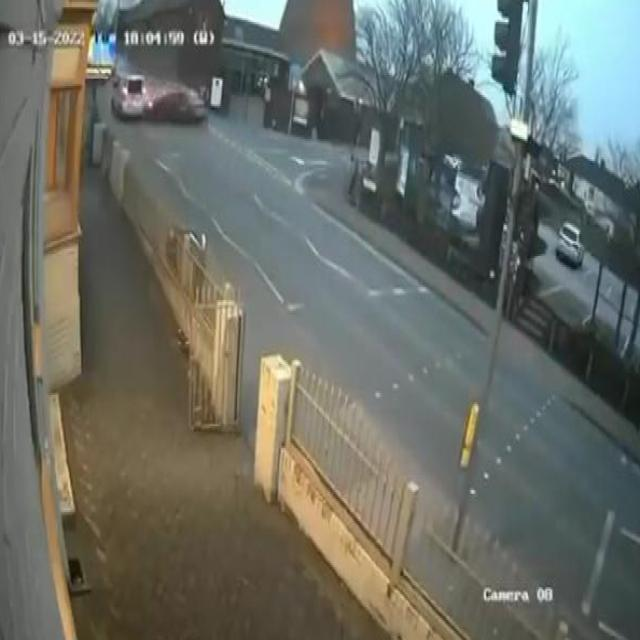accident: (148, 77, 216, 130)
